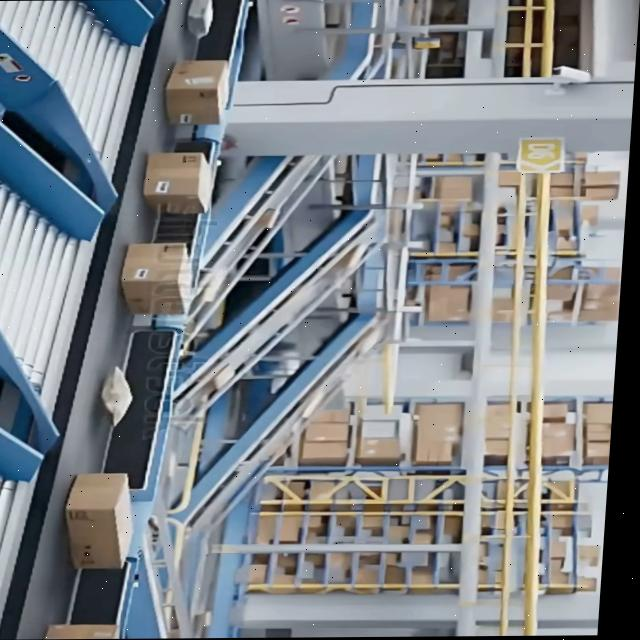product 1: (118, 241, 196, 314), (141, 150, 216, 213), (162, 72, 232, 124)
product 2: (95, 366, 140, 425)
